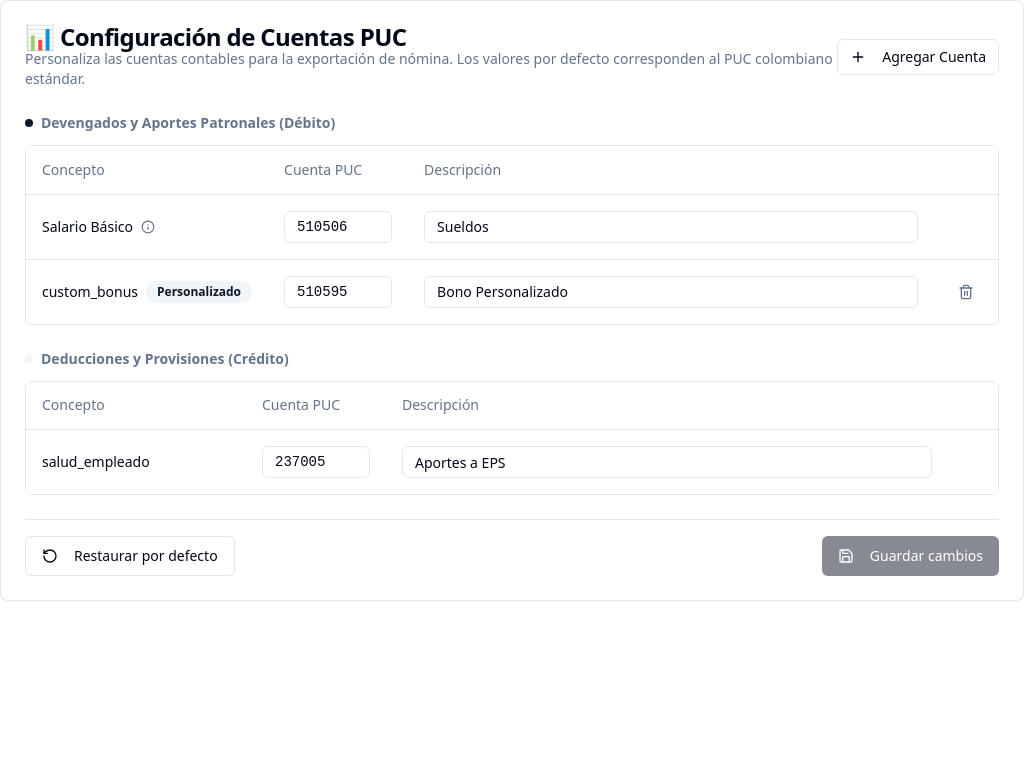
Test case: PUCMappingEditor › should show restore defaults confirmation dialog
This screenshot has width=1024, height=768.
Click the button "Restaurar por defecto".
click(130, 556)  # box [25,536,235,576]
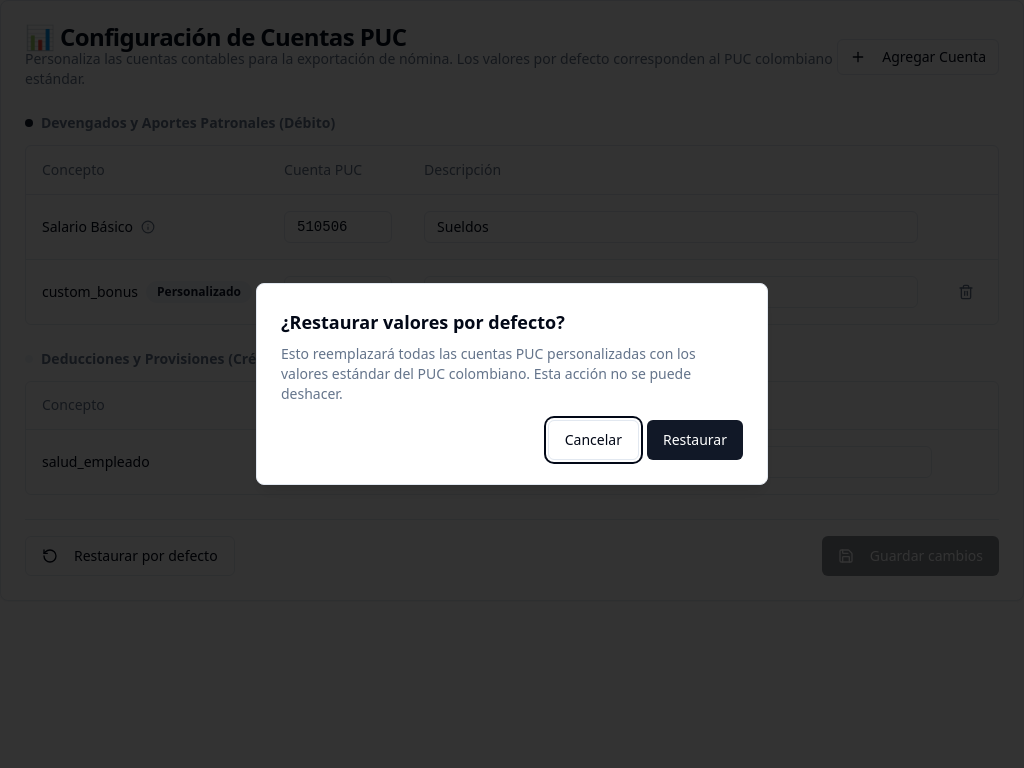
Result: the heading "¿Restaurar valores por defecto?" is shown at [281,310,565,334]
